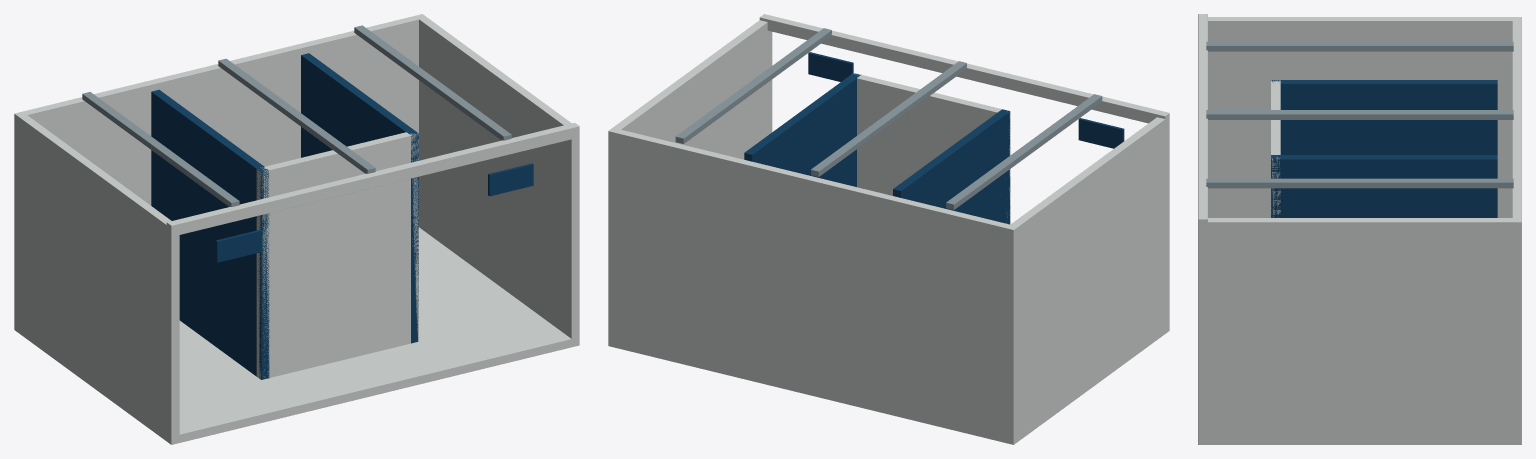
3 views of the same model, side by side, from view 1: azimuth 30°, elevation 25°; view 2: azimuth 150°, elevation 25°; view 3: azimuth 270°, elevation 25° (orthographic). The views are drawn at different scales.
Parts seen in each view (by area): view 1: SIDE_Wall, SIDE_Wall.001, PRIVACY_CentralScreen, FLOOR, BACK_Wall, PRIVACY_Baffle, PRIVACY_Baffle.001, FRONT_Header, CEILING_ServiceRail, CEILING_ServiceRail.002, CEILING_ServiceRail.001, WAYFINDING_BlankPlate.001 (+1 smaller); view 2: BACK_Wall, SIDE_Wall, SIDE_Wall.001, PRIVACY_CentralScreen, PRIVACY_Baffle, PRIVACY_Baffle.001, FRONT_Header, FLOOR, CEILING_ServiceRail.001, CEILING_ServiceRail, CEILING_ServiceRail.002, WAYFINDING_BlankPlate (+1 smaller); view 3: SIDE_Wall.001, SIDE_Wall, PRIVACY_Baffle, PRIVACY_Baffle.001, CEILING_ServiceRail.001, CEILING_ServiceRail, CEILING_ServiceRail.002, FLOOR, FRONT_Header, BACK_Wall, PRIVACY_CentralScreen.
Part boxes in pixels (box(x1,y1,x2,y2)): SIDE_Wall: box(14, 112, 179, 439); SIDE_Wall.001: box(416, 14, 579, 342); PRIVACY_CentralScreen: box(256, 132, 418, 379); FLOOR: box(14, 227, 579, 444); BACK_Wall: box(19, 15, 422, 205); PRIVACY_Baffle: box(151, 89, 269, 379); PRIVACY_Baffle.001: box(301, 53, 418, 343); FRONT_Header: box(166, 123, 579, 236); CEILING_ServiceRail: box(354, 25, 511, 140); CEILING_ServiceRail.002: box(218, 58, 375, 173); CEILING_ServiceRail.001: box(82, 92, 239, 206); WAYFINDING_BlankPlate.001: box(488, 163, 533, 196); BACK_Wall: box(612, 129, 1013, 439); SIDE_Wall: box(1005, 116, 1169, 440); SIDE_Wall.001: box(608, 20, 772, 338); PRIVACY_CentralScreen: box(853, 73, 1010, 218); PRIVACY_Baffle: box(893, 109, 1010, 224); PRIVACY_Baffle.001: box(744, 73, 860, 186); FRONT_Header: box(759, 14, 1169, 123); FLOOR: box(608, 327, 1169, 444); CEILING_ServiceRail.001: box(946, 94, 1102, 209); CEILING_ServiceRail: box(675, 28, 831, 143); CEILING_ServiceRail.002: box(811, 61, 966, 176); WAYFINDING_BlankPlate: box(1078, 118, 1124, 148); SIDE_Wall.001: box(1198, 218, 1521, 440); SIDE_Wall: box(1208, 17, 1521, 217); PRIVACY_Baffle: box(1271, 80, 1497, 154); PRIVACY_Baffle.001: box(1271, 155, 1497, 217); CEILING_ServiceRail.001: box(1206, 41, 1513, 51); CEILING_ServiceRail: box(1206, 178, 1513, 188); CEILING_ServiceRail.002: box(1206, 110, 1513, 119); FLOOR: box(1198, 436, 1521, 444); FRONT_Header: box(1198, 14, 1207, 230); BACK_Wall: box(1512, 19, 1521, 219); PRIVACY_CentralScreen: box(1271, 80, 1280, 217).
Bounding box in the file's own units: 6 × 3.14 × 4.
